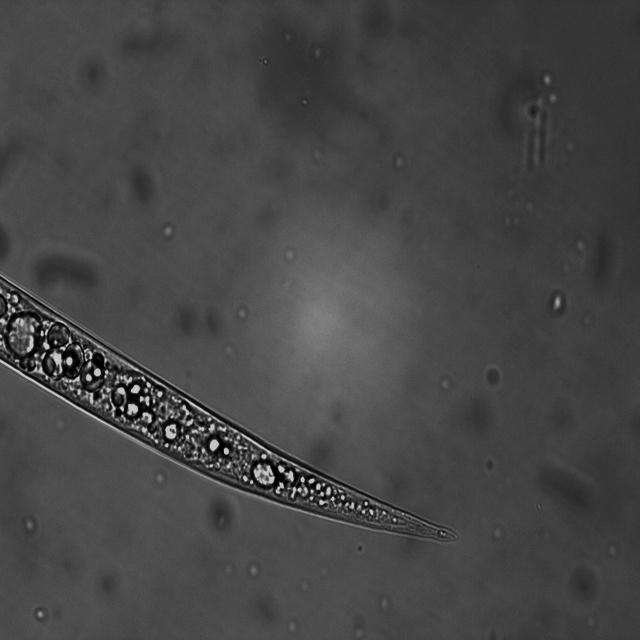Meloidogyne: (0, 272, 460, 549)
